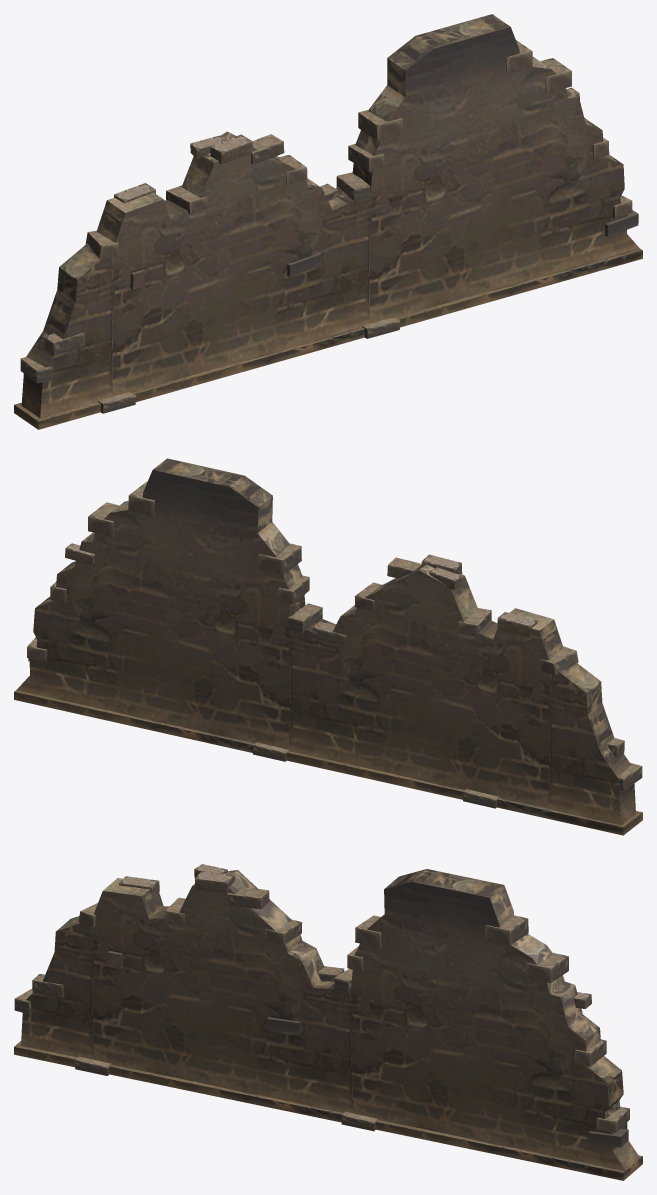
The model's file is Wall.FBX.
3 renders of one model, top to bottom at view 1: azimuth 30°, elevation 25°; view 2: azimuth 150°, elevation 25°; view 3: azimuth 330°, elevation 25°, orthographic. The views are drawn at different scales.
Visible parts, largest first — view 1: Wall; view 2: Wall; view 3: Wall.
Boxes of the visible parts, x1,y1,x2,y2 form: Wall: (14, 14, 642, 429); Wall: (14, 458, 642, 835); Wall: (14, 864, 642, 1180).
Size of the model in its own units: 721 by 302 by 83.36.
